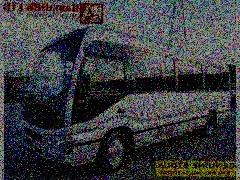bus: (23, 20, 229, 169)
